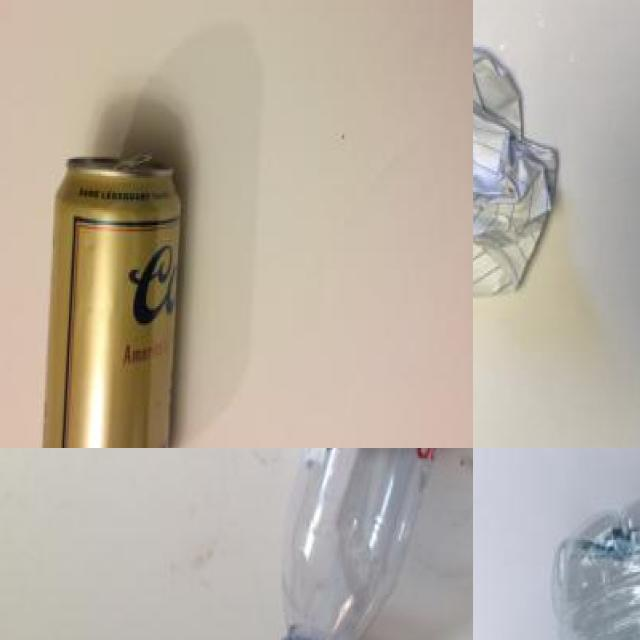paper: (473, 31, 580, 310)
plastic: (40, 128, 193, 448), (279, 448, 473, 640), (549, 502, 640, 640)
